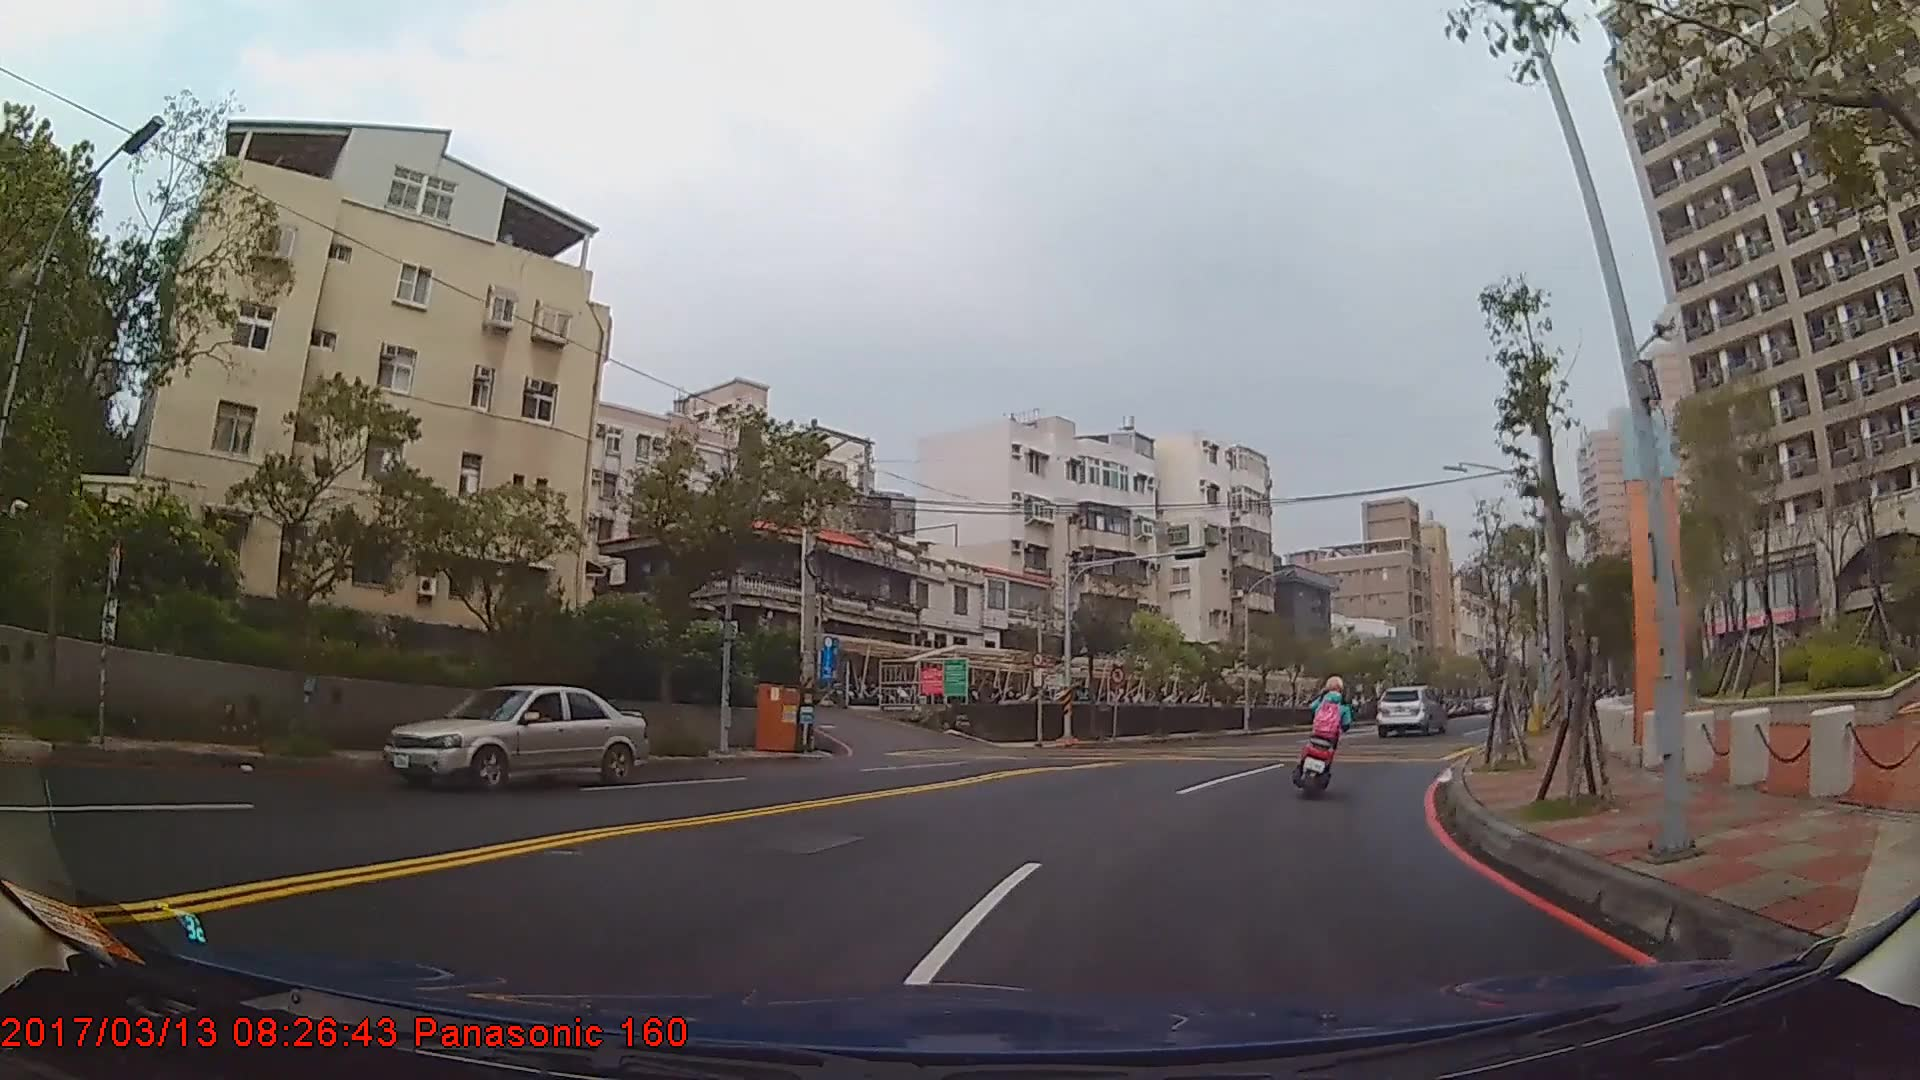rider: (1297, 675, 1356, 794)
vehicle: (380, 682, 646, 791), (1375, 682, 1442, 736)
